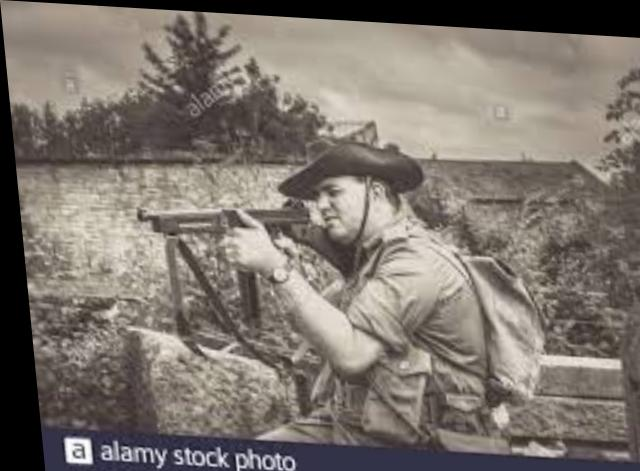other: (278, 137, 474, 447)
